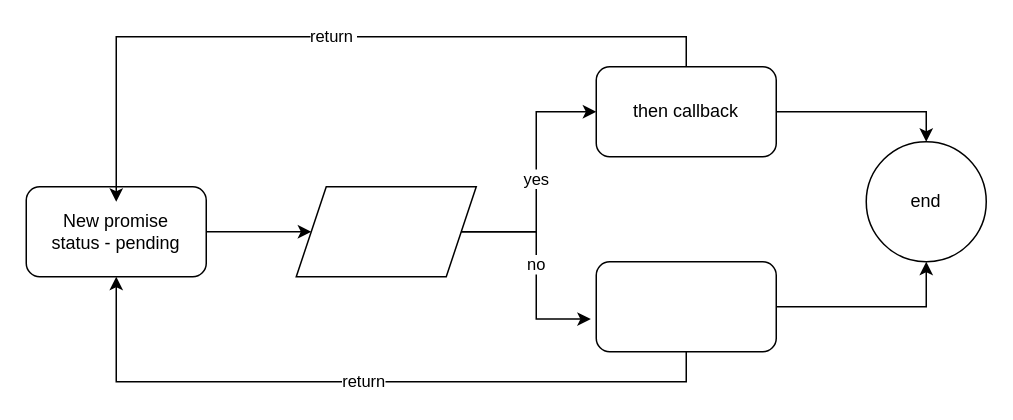
This 1013x420 diagram has some shape labels left out. The centre of each missing label's shape, as x and y in pixels:
catch handling: [685,306]
verify Token: [385,231]
